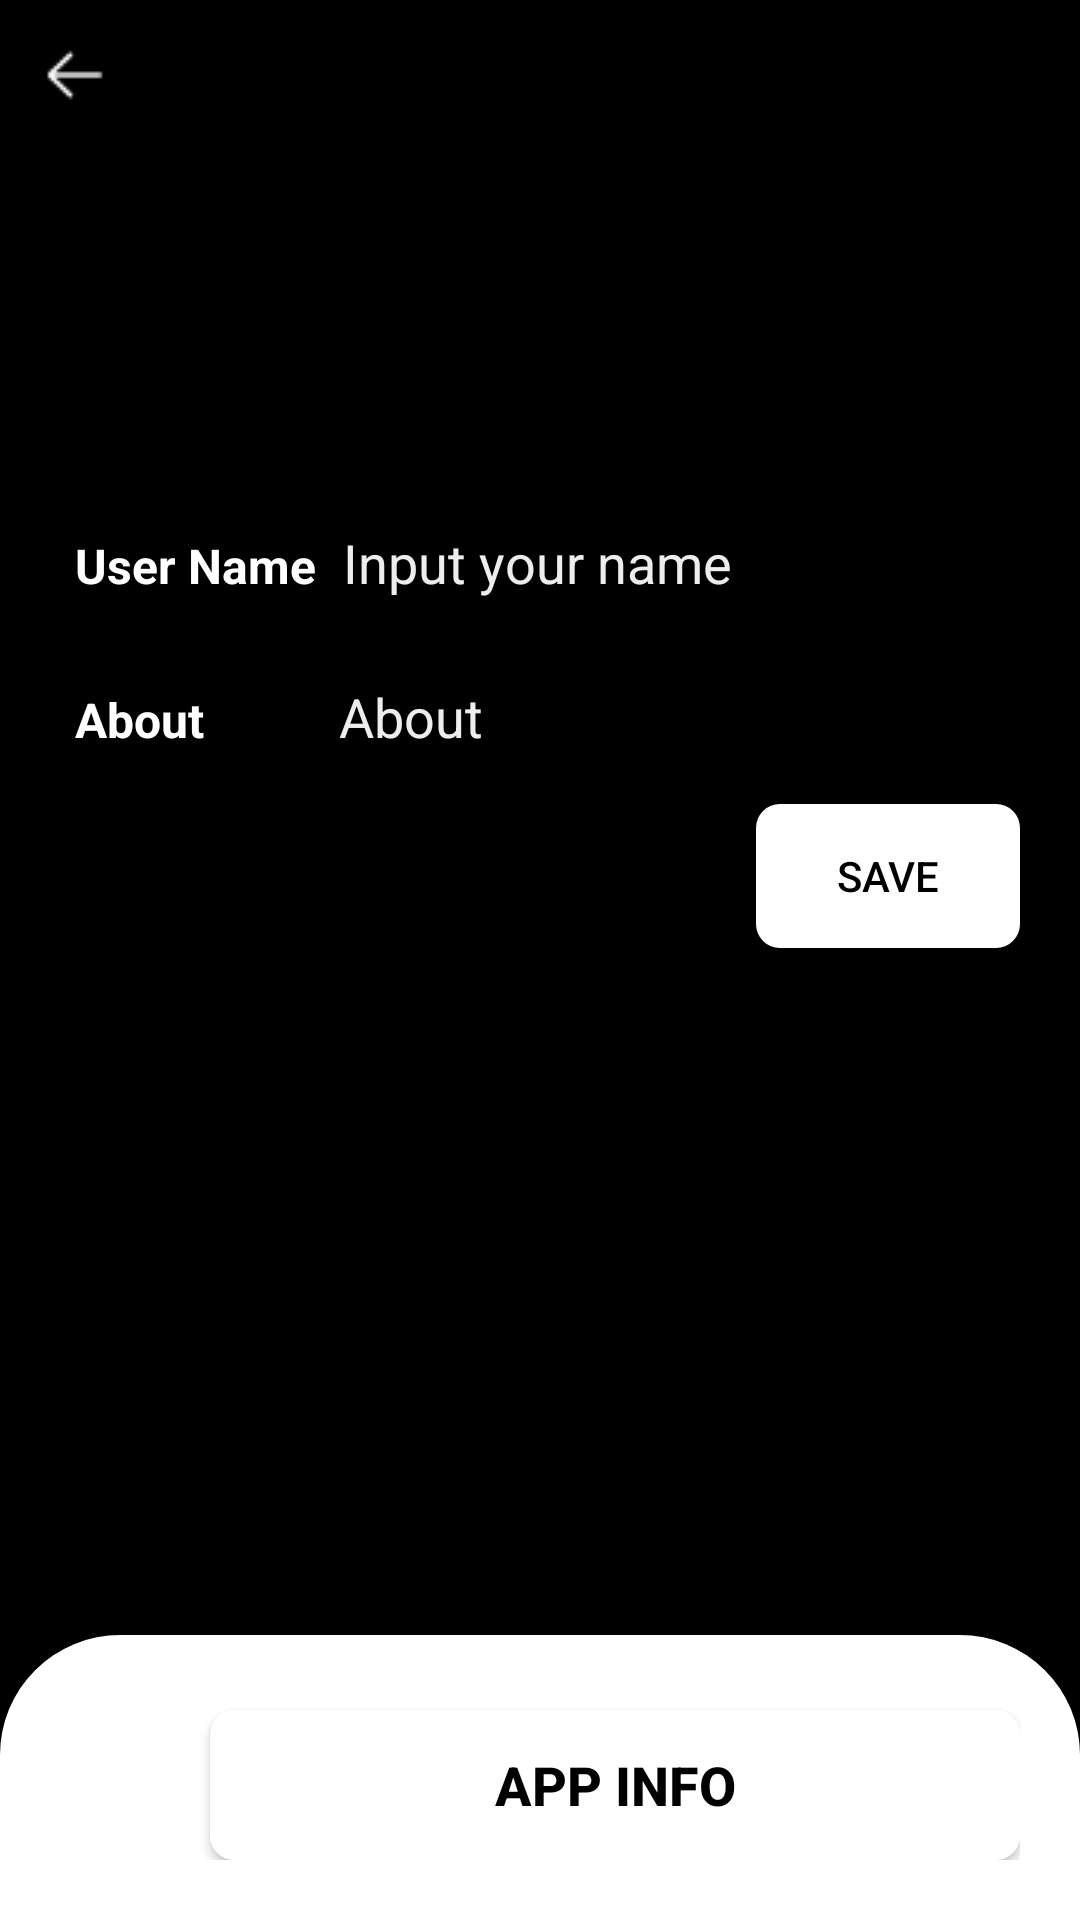

Icon bounding boxes for this 1080x1920 phone screenshot, format (x1, y1, x2, y2):
arrow: (47, 50, 103, 100)
